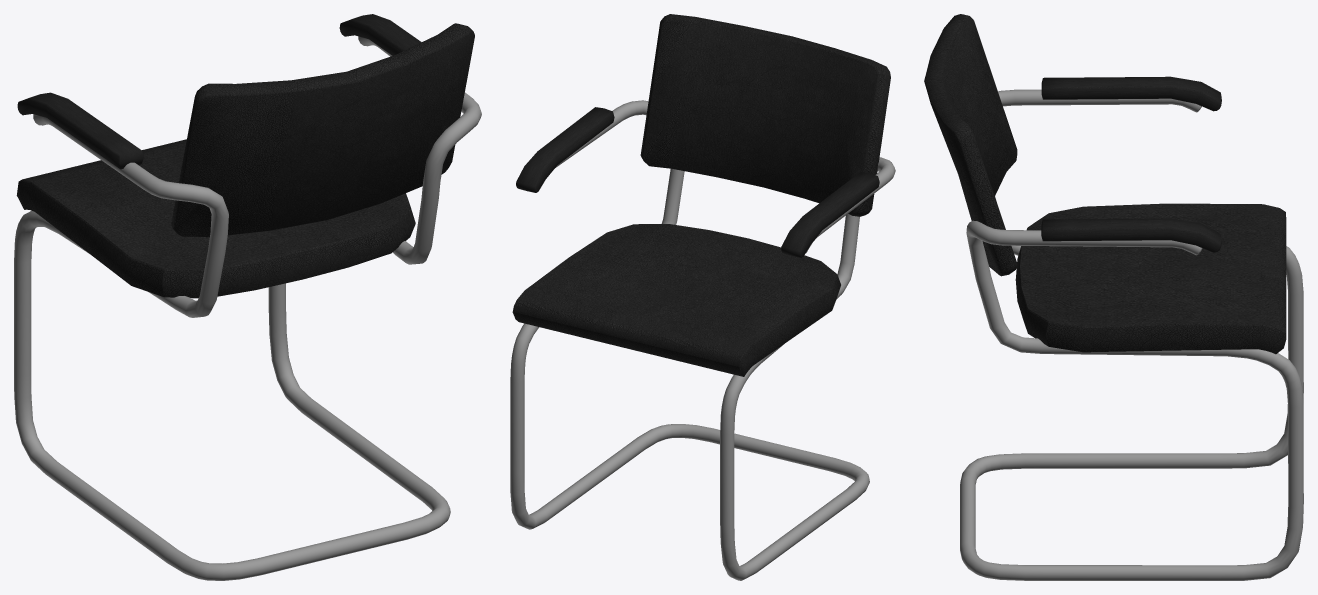
File: CK_WJ_yizi_01.FBX
The picture shows the model from 3 angles, left to right: view 1: azimuth 30°, elevation 25°; view 2: azimuth 150°, elevation 25°; view 3: azimuth 270°, elevation 25°; orthographic projection. The views are drawn at different scales.
Visible parts, largest first — view 1: CK_WJ_yizi_01; view 2: CK_WJ_yizi_01; view 3: CK_WJ_yizi_01.
Boxes of the visible parts, <box> form: CK_WJ_yizi_01: <box>14,14,481,580</box>; CK_WJ_yizi_01: <box>510,14,895,580</box>; CK_WJ_yizi_01: <box>924,14,1303,580</box>.
Bounding box in the file's own units: 58.57 × 80.5 × 61.01.
